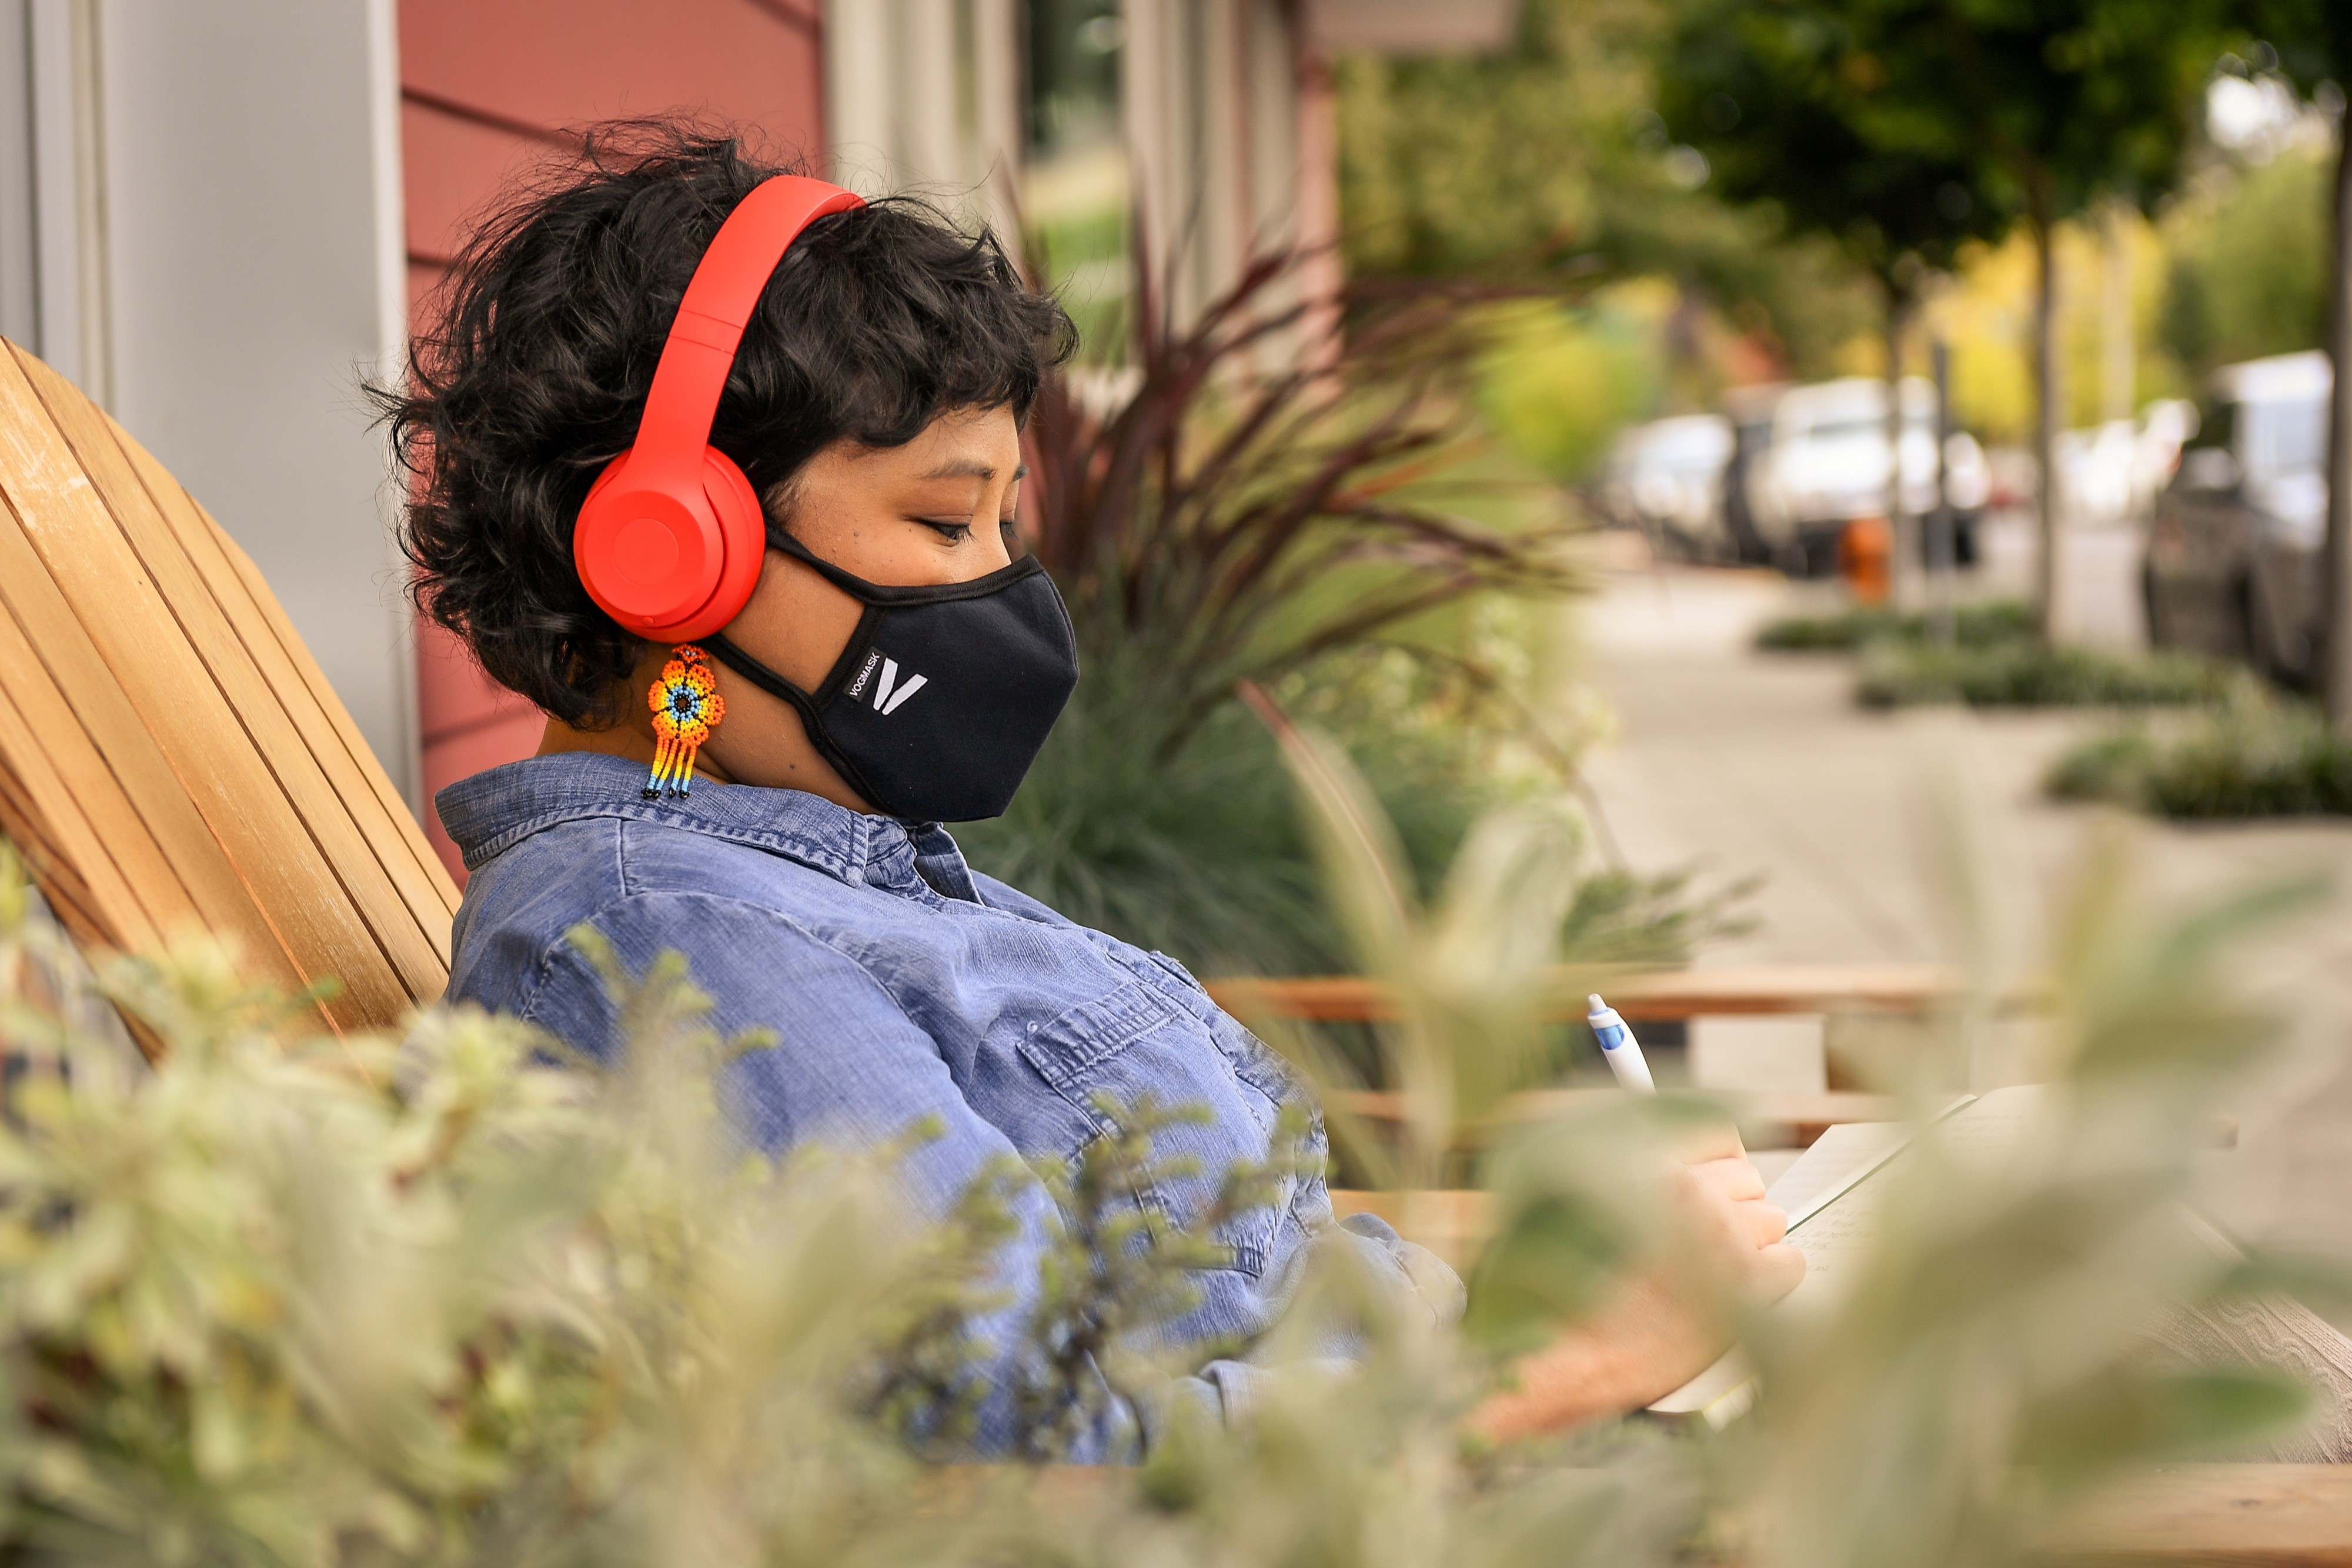face_with_mask: (431, 166, 1090, 827)
